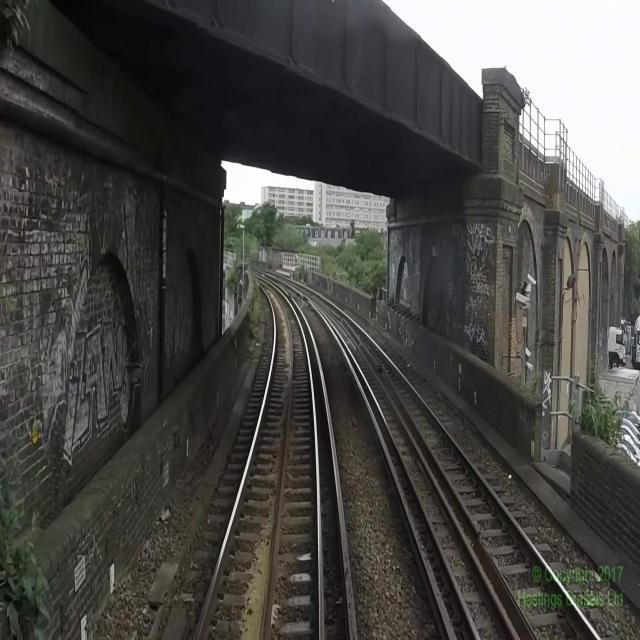rail-track: (275, 275, 595, 639), (198, 274, 319, 639)
